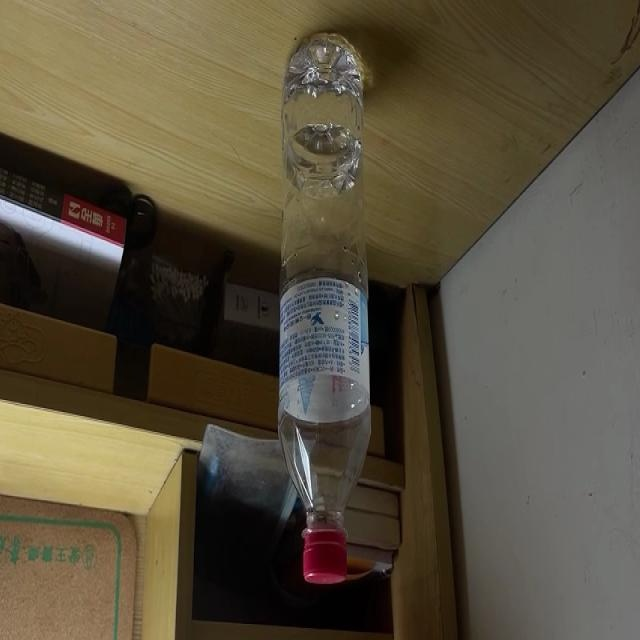Water: (280, 32, 371, 582)
